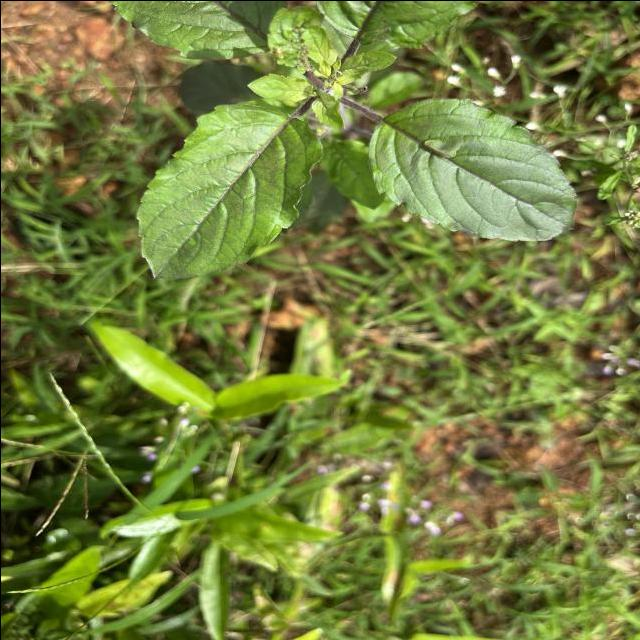Ocimum tenuiflorum: (133, 102, 324, 280), (368, 95, 578, 242)
